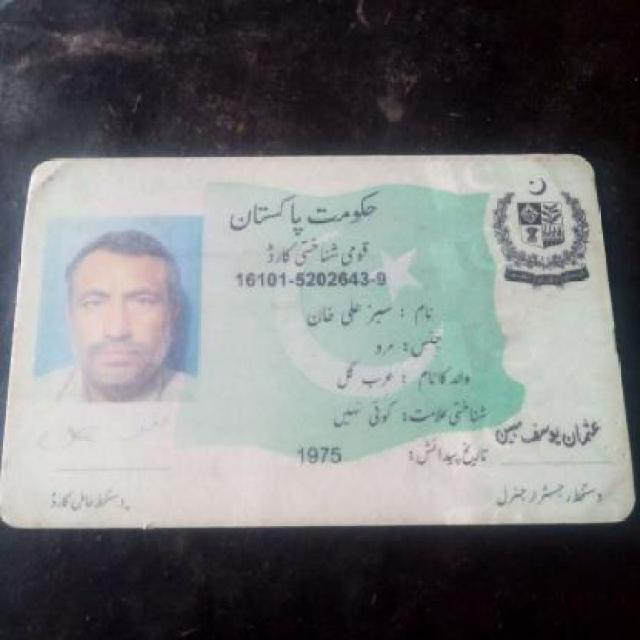Front: (3, 156, 635, 524)
